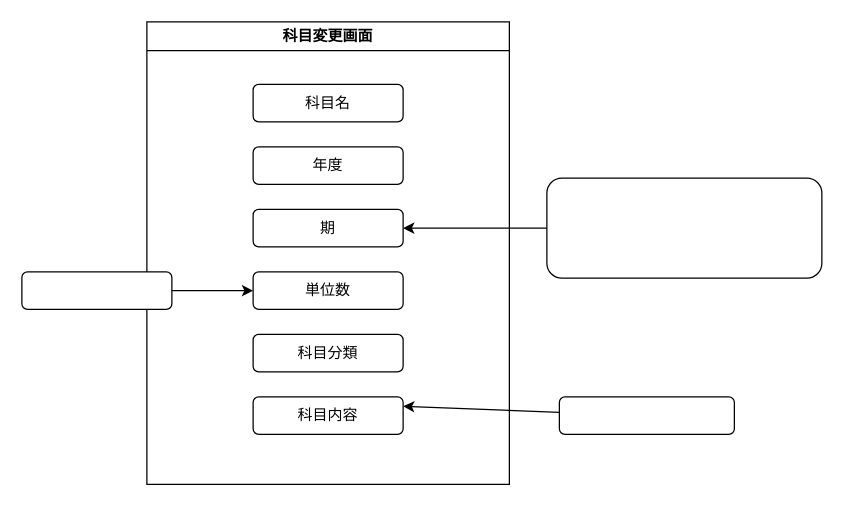
Some shapes in this 844 by 506 pixel diagram are drawn without their labels. The shapes that lost their labels are listed below. From the top down, each one's centre as x and y in pixels, then its label:
At [684,227]: "前期か後期の二択形式 <select>".
At [96,290]: "1~10の選択形式 <select>".
At [646,415]: "<textarea>".
